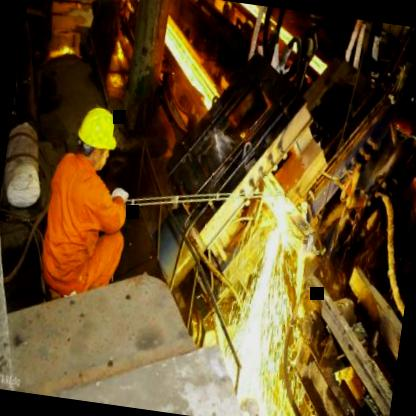helmet: (70, 98, 122, 174)
